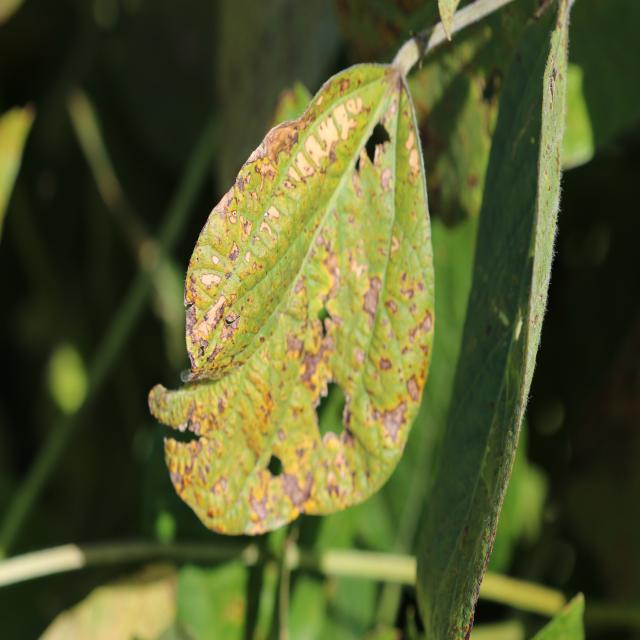Bacterial_Blight: (190, 294, 230, 350), (259, 118, 302, 162), (278, 468, 311, 509), (298, 347, 327, 391), (380, 406, 407, 443), (331, 101, 356, 140), (378, 88, 399, 128), (362, 277, 381, 317), (249, 491, 270, 523), (350, 256, 369, 282), (259, 219, 277, 243), (406, 375, 421, 402), (200, 272, 222, 290), (324, 308, 342, 330), (408, 147, 421, 176), (379, 167, 393, 192), (210, 476, 227, 496), (185, 303, 197, 330), (227, 240, 241, 262), (265, 204, 280, 222), (255, 142, 269, 161), (385, 298, 399, 316), (187, 275, 197, 300), (343, 426, 355, 446), (421, 312, 432, 333), (379, 356, 393, 371), (236, 174, 246, 195), (217, 396, 227, 414), (243, 219, 253, 236), (211, 253, 221, 265), (187, 419, 195, 433), (244, 250, 252, 263), (230, 209, 238, 220)
Soybean: (149, 30, 440, 535)
